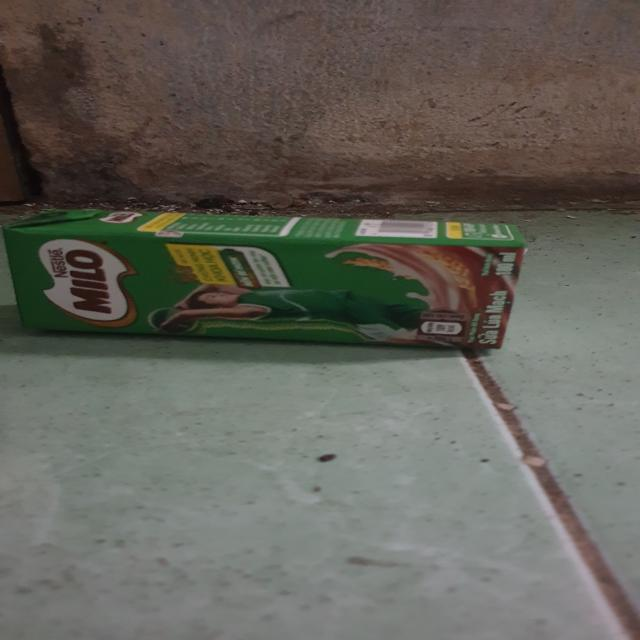Milo: (1, 206, 535, 353)
